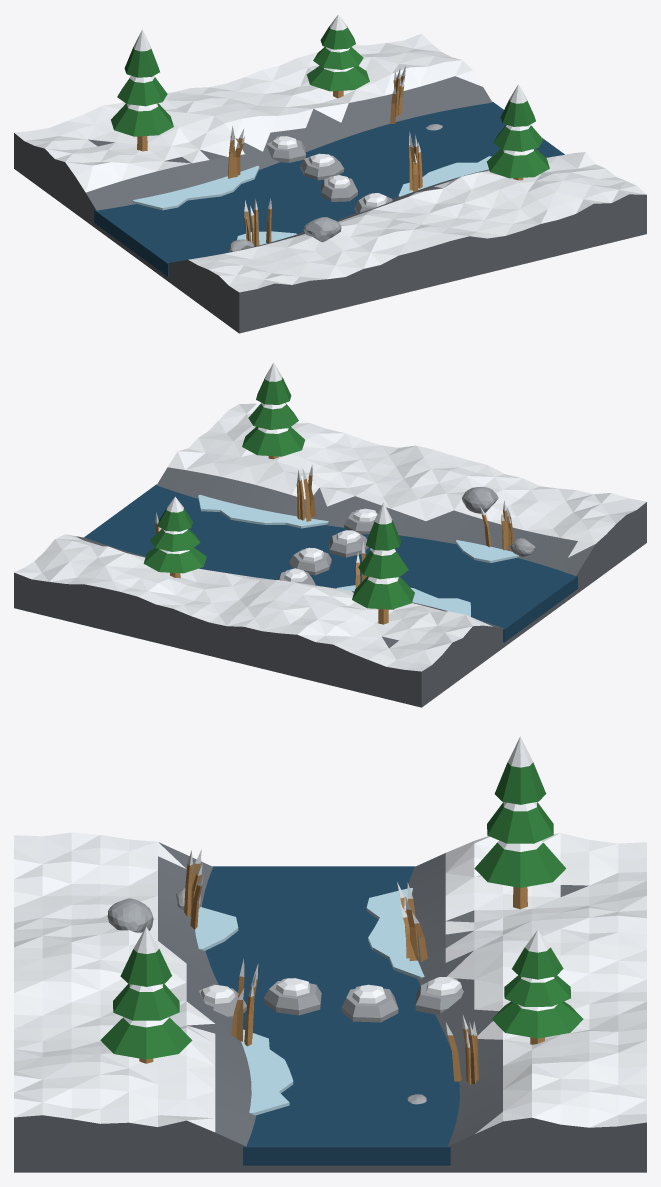
File: winter-stream-crossing.glb
3 views of the same model, one above another, from view 1: azimuth 30°, elevation 25°; view 2: azimuth 150°, elevation 25°; view 3: azimuth 270°, elevation 25° (orthographic). The views are drawn at different scales.
Parts seen in each view (by area): view 1: Ground, Water, Pine_1, Pine_2, Pine_3, Ice_North, Ice_South, SteppingStone_3, SteppingStone_4, SteppingStone_2, Reeds_3, Rock_1 (+4 smaller); view 2: Ground, Water, Pine_1, Pine_2, Pine_3, Ice_South, SteppingStone_3, Ice_North, SteppingStone_2, Ice_South2, Reeds_2, Rock_1 (+2 smaller); view 3: Ground, Water, Pine_1, Pine_2, Pine_3, Ice_South, Ice_North, SteppingStone_3, SteppingStone_2, SteppingStone_4, Ice_South2, Rock_1 (+5 smaller).
Part boxes in pixels (x1,y1,x2,y2): Ground: (14,33,646,333); Water: (94,101,564,276); Pine_1: (111,29,173,151); Pine_2: (486,84,549,180); Pine_3: (306,14,369,98); Ice_North: (133,165,259,210); Ice_South: (398,156,491,196); SteppingStone_3: (300,153,344,180); SteppingStone_4: (266,136,305,162); SteppingStone_2: (321,175,357,201); Reeds_3: (244,198,271,246); Rock_1: (303,217,341,242); Ground: (14,403,646,707); Water: (84,484,577,642); Pine_1: (352,502,414,624); Pine_2: (242,362,304,459); Pine_3: (143,496,206,578); Ice_South: (198,494,328,528); SteppingStone_3: (289,547,331,575); Ice_North: (336,585,470,616); SteppingStone_2: (328,530,368,557); Ice_South2: (455,540,518,563); Reeds_2: (296,465,315,521); Rock_1: (462,487,498,513); Ground: (14,832,646,1172); Water: (202,866,459,1165); Pine_1: (474,736,565,909); Pine_2: (100,926,192,1063); Pine_3: (492,930,583,1044); Ice_South: (241,1029,293,1115); Ice_North: (366,888,424,978); SteppingStone_3: (341,984,398,1022); SteppingStone_2: (263,978,321,1015); SteppingStone_4: (415,977,463,1014); Ice_South2: (195,907,238,950); Rock_1: (107,898,153,932).
Size of the model in its own units: 23.12 by 8.2 by 22.
